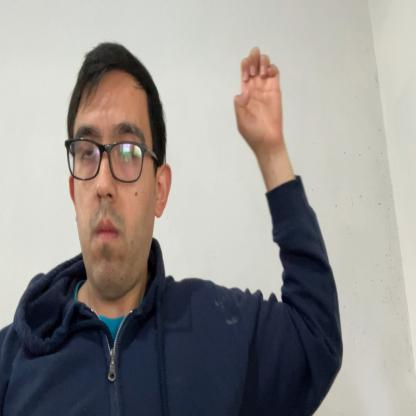E: (234, 46, 282, 150)
